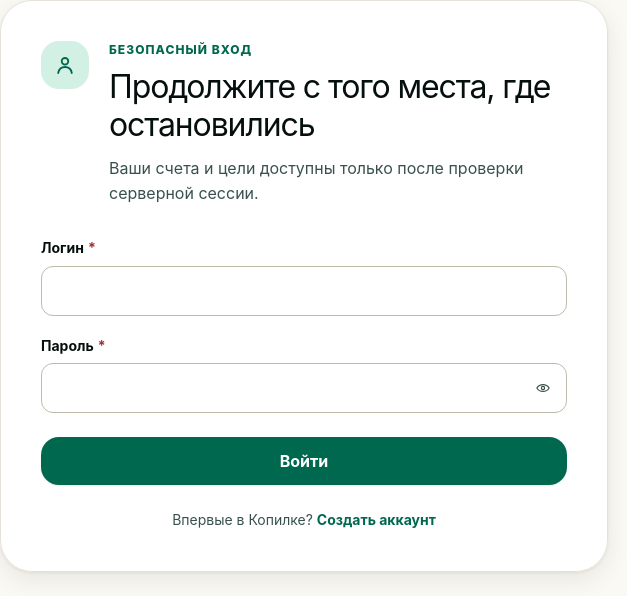
Test: LoginForm › labels password-manager friendly fields and toggles password visibility
Type "секретный пароль" into the password field labelled "Пароль*" at [304, 388], box [41,363,567,413]
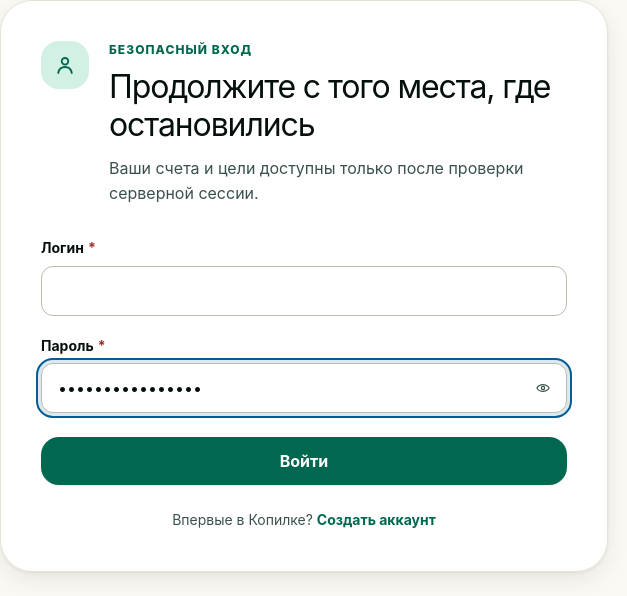
Click the button named "Показать пароль" at [543, 388], box [523,368,563,408]
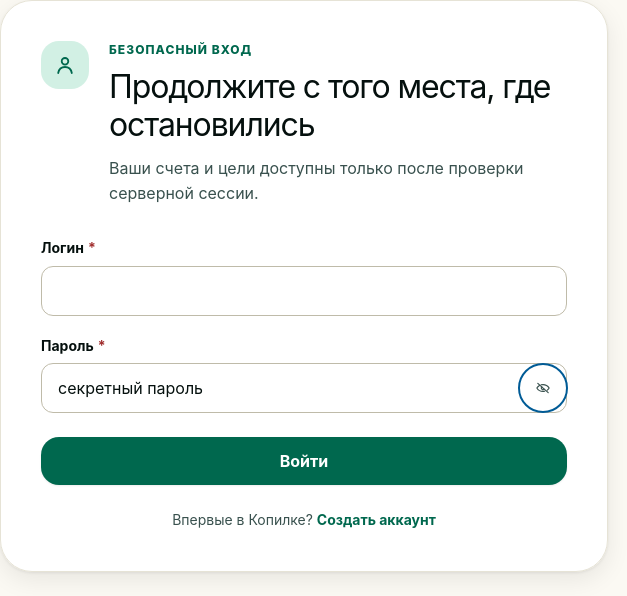
Check: the field labelled "Пароль*" shows its text, box [41,363,567,413]
